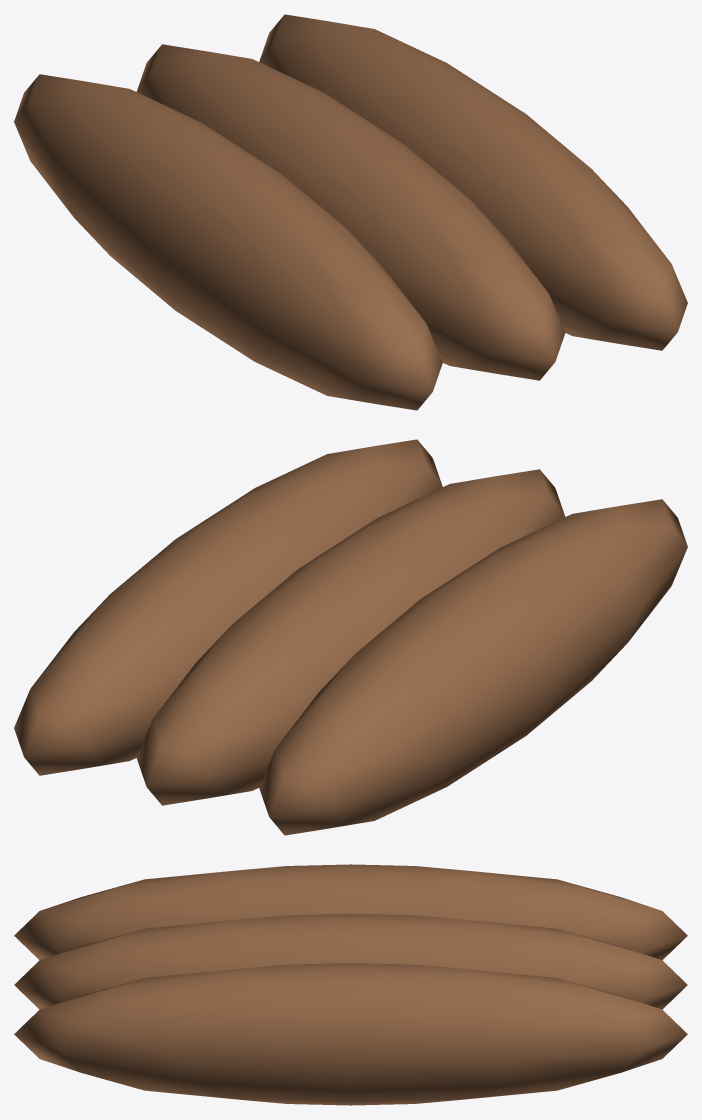
The model's file is wood.glb.
3 renders of one model, top to bottom at view 1: azimuth 30°, elevation 25°; view 2: azimuth 150°, elevation 25°; view 3: azimuth 270°, elevation 25°, orthographic. The views are drawn at different scales.
Visible parts, largest first — view 1: log; view 2: log; view 3: log.
Boxes of the visible parts, x1,y1,x2,y2 form: log: (14, 14, 687, 410); log: (14, 439, 687, 835); log: (14, 864, 687, 1105).
Bounding box in the file's own units: 0.58 × 0.22 × 1.04.
